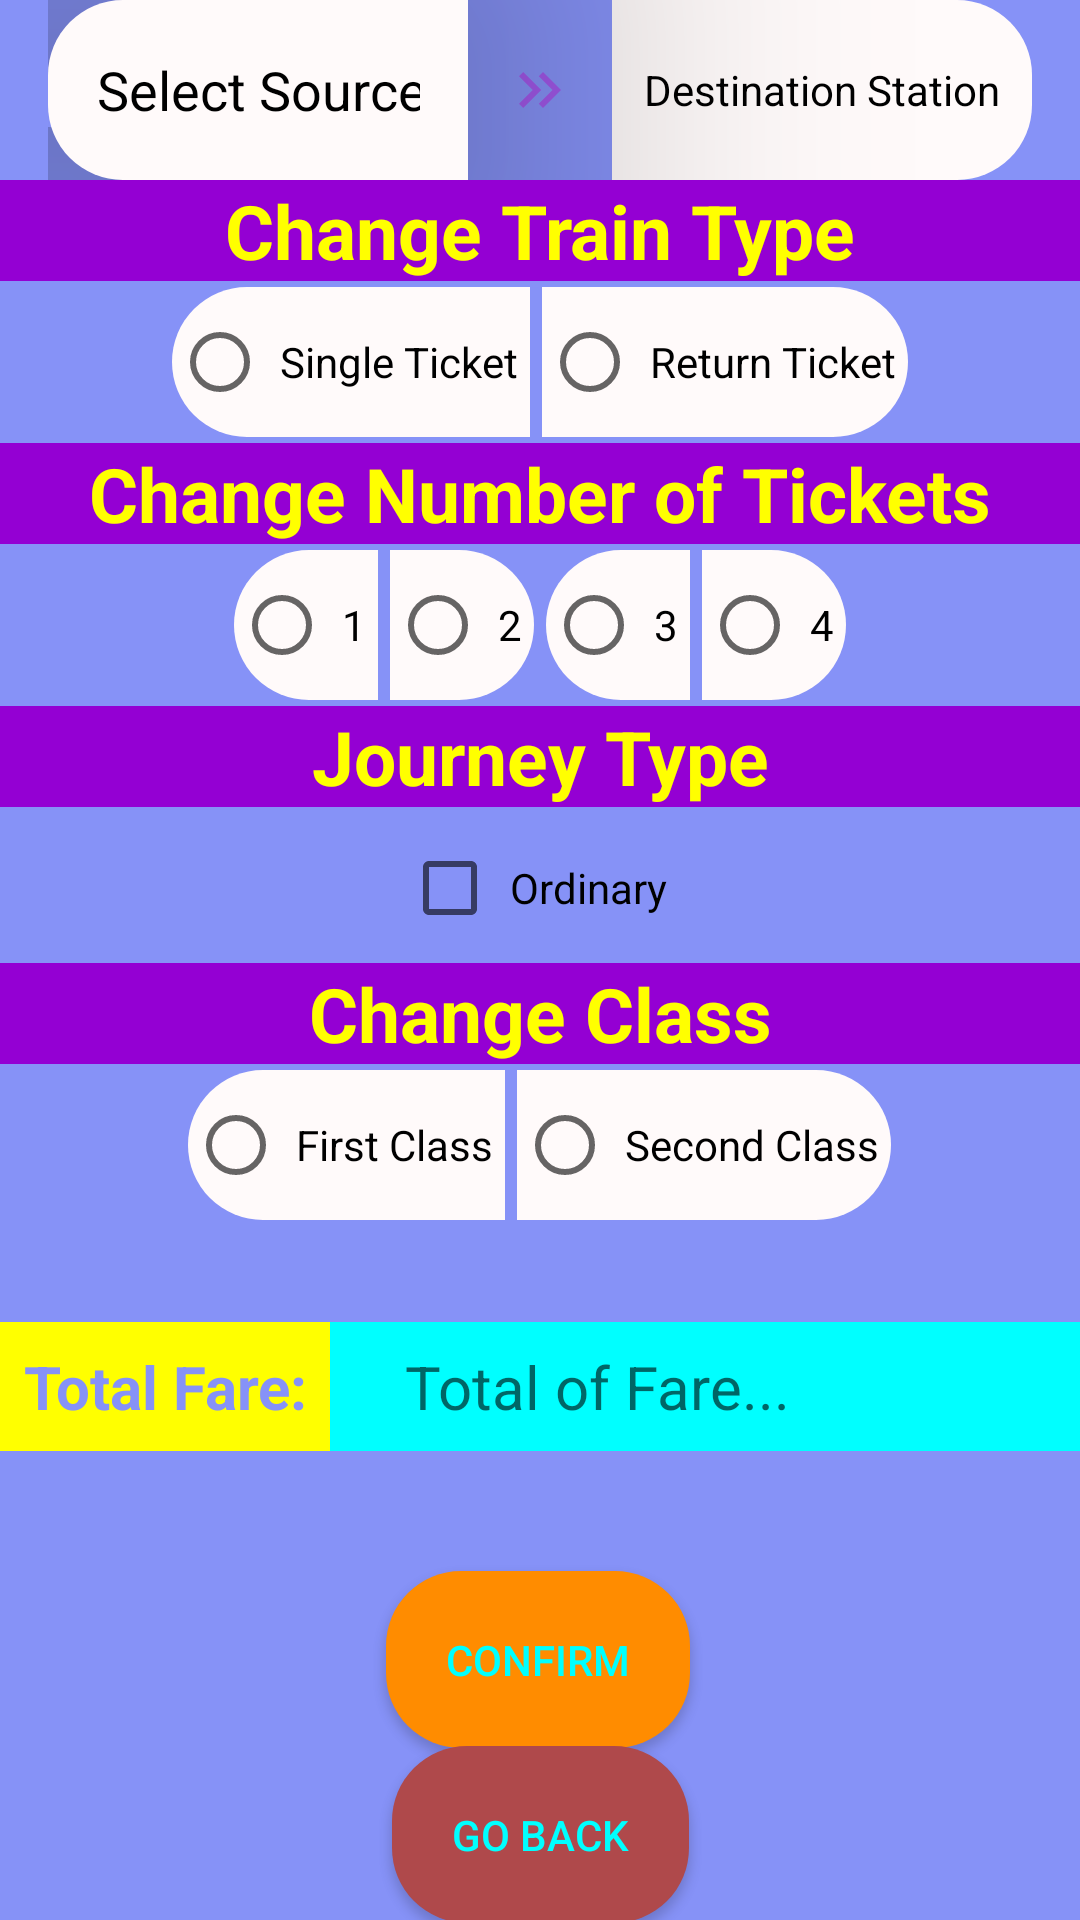

Screen size 1080w x 1920h. Icon name, then its center in pixels as (x=x, y=y):
arrow: (x=539, y=90)
